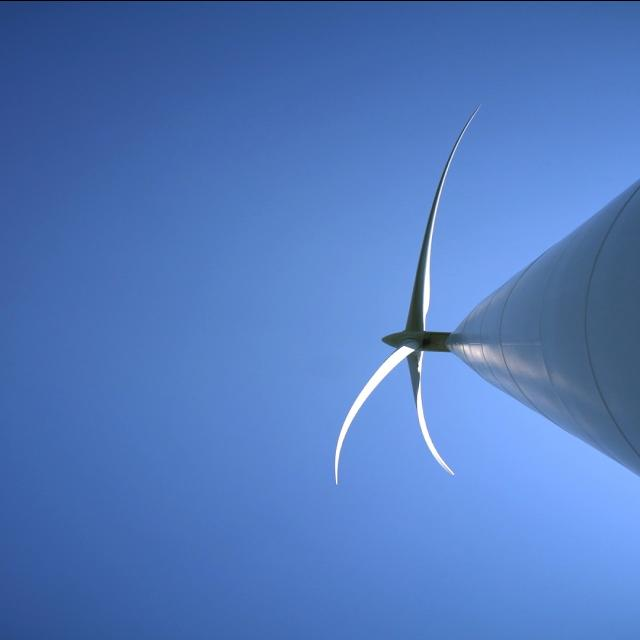blade 1: (399, 356, 467, 502)
blade 2: (314, 358, 387, 488)
blade 3: (398, 122, 473, 306)
